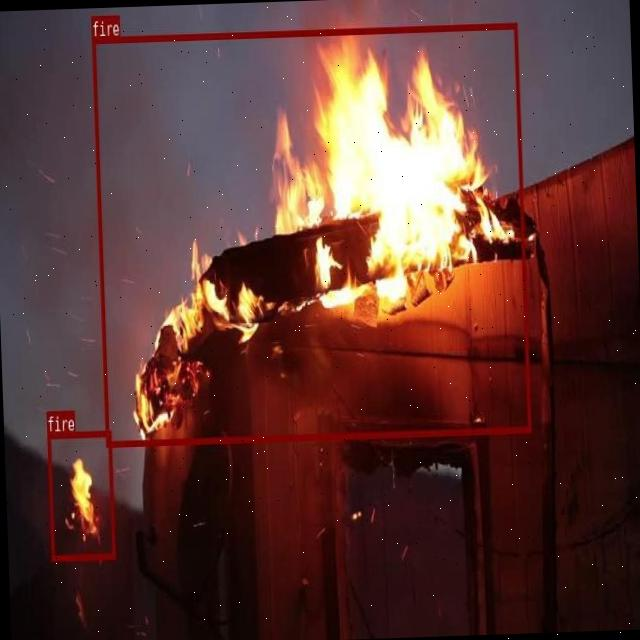fire: (92, 21, 531, 446), (47, 429, 115, 558)
